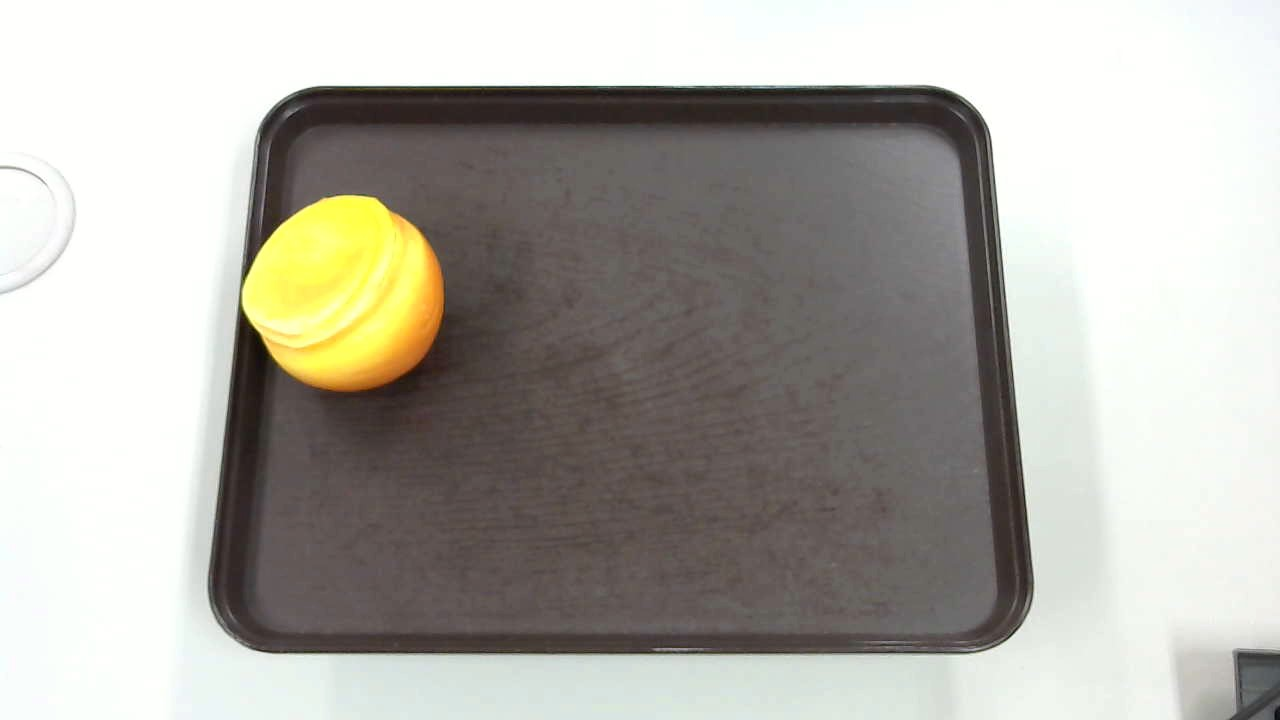bun: (242, 193, 444, 389)
